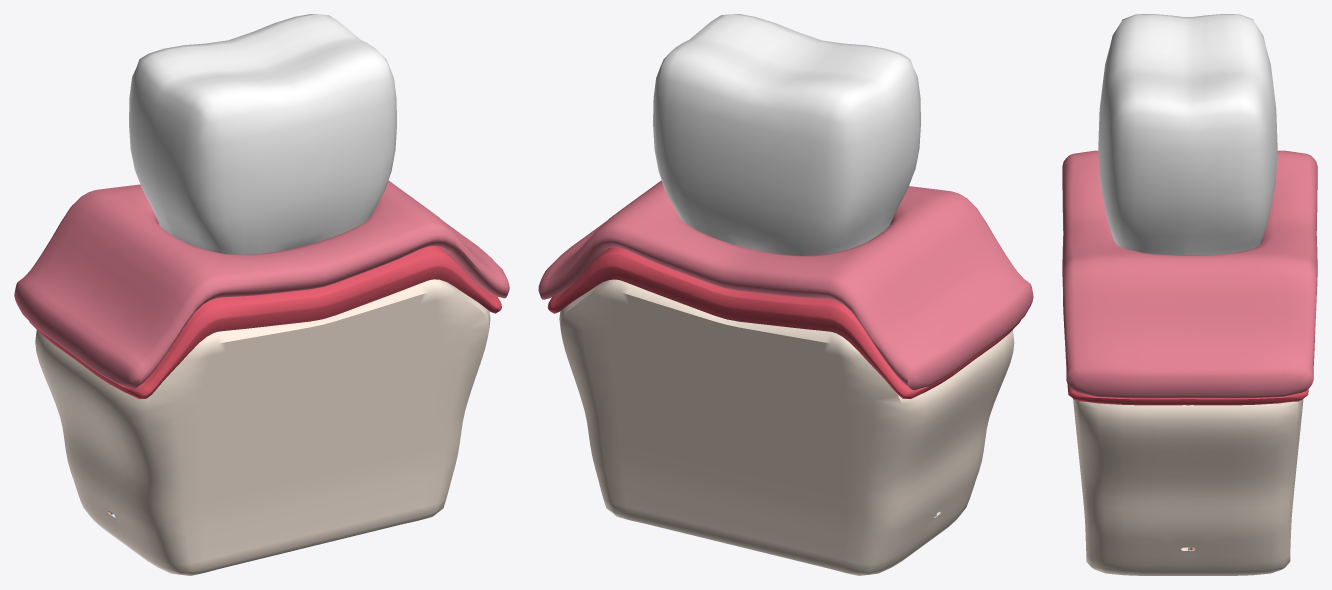
File: tooth-final.glb
The picture shows the model from 3 angles, left to right: view 1: azimuth 30°, elevation 25°; view 2: azimuth 150°, elevation 25°; view 3: azimuth 270°, elevation 25°; orthographic projection.
Parts seen in each view (by area): view 1: bone_front, enamel_front, gum_top_front, gum_top_back, gum_bottom_front, enamel_back, bone_back; view 2: bone_back, enamel_back, gum_top_back, gum_top_front, gum_bottom_back, enamel_front, bone_front; view 3: gum_top_back, gum_top_front, enamel_back, enamel_front, bone_front, bone_back, gum_bottom_front, gum_bottom_back.
Boxes of the visible parts, bbox=[...] form: bone_front: bbox=[76, 279, 490, 575]; enamel_front: bbox=[152, 37, 396, 254]; gum_top_front: bbox=[64, 181, 509, 388]; gum_top_back: bbox=[14, 180, 452, 349]; gum_bottom_front: bbox=[72, 246, 501, 398]; enamel_back: bbox=[129, 14, 359, 235]; bone_back: bbox=[35, 330, 123, 543]; bone_back: bbox=[559, 279, 973, 575]; enamel_back: bbox=[653, 37, 897, 255]; gum_top_back: bbox=[538, 181, 983, 390]; gum_top_front: bbox=[595, 180, 1033, 350]; gum_bottom_back: bbox=[547, 247, 977, 398]; enamel_front: bbox=[692, 14, 920, 235]; bone_front: bbox=[925, 330, 1014, 543]; gum_top_back: bbox=[1190, 150, 1317, 398]; gum_top_front: bbox=[1062, 150, 1189, 398]; enamel_back: bbox=[1188, 14, 1277, 255]; enamel_front: bbox=[1098, 14, 1187, 255]; bone_front: bbox=[1073, 399, 1188, 575]; bone_back: bbox=[1188, 399, 1303, 575]; gum_bottom_front: bbox=[1063, 295, 1188, 405]; gum_bottom_back: bbox=[1188, 389, 1308, 405].
Size of the model in its own units: 6.29 by 6.99 by 3.54.
